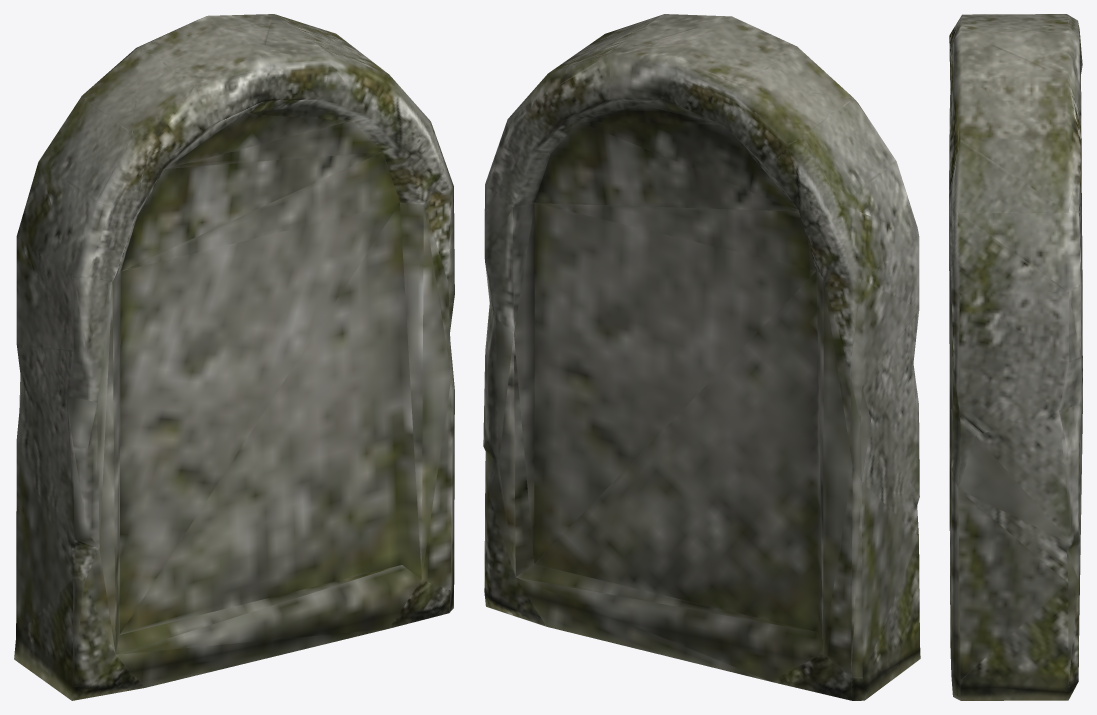
File: prop_gravestone.glb
3 views of the same model, side by side, from view 1: azimuth 30°, elevation 25°; view 2: azimuth 150°, elevation 25°; view 3: azimuth 270°, elevation 25° (orthographic). The views are drawn at different scales.
Size of the model in its own units: 0.6696 by 1 by 0.2099.
1 material, 1 textured.
